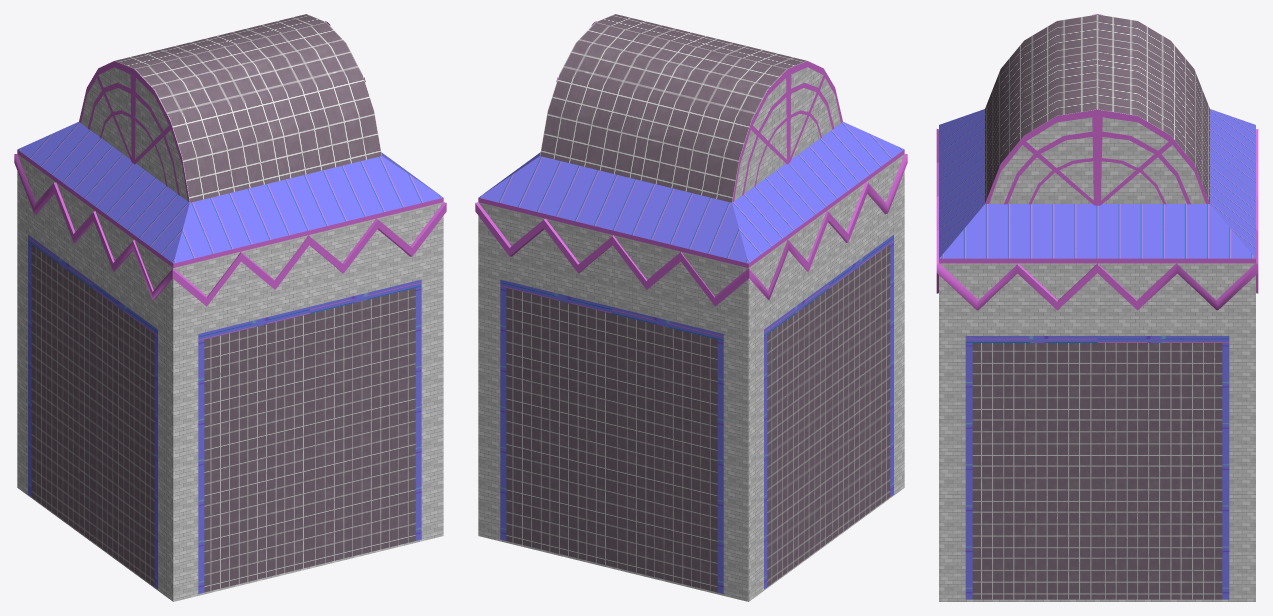
Rendered from SM_Building_02.fbx.
3 views of the same model, side by side, from view 1: azimuth 30°, elevation 25°; view 2: azimuth 150°, elevation 25°; view 3: azimuth 270°, elevation 25° (orthographic).
Visible parts, largest first — view 1: SM_Building_02; view 2: SM_Building_02; view 3: SM_Building_02.
Boxes of the visible parts, <box> form: SM_Building_02: <box>14,14,446,601</box>; SM_Building_02: <box>475,14,907,601</box>; SM_Building_02: <box>936,14,1258,601</box>.
Size of the model in its own units: 1370 by 1373 by 2221.
